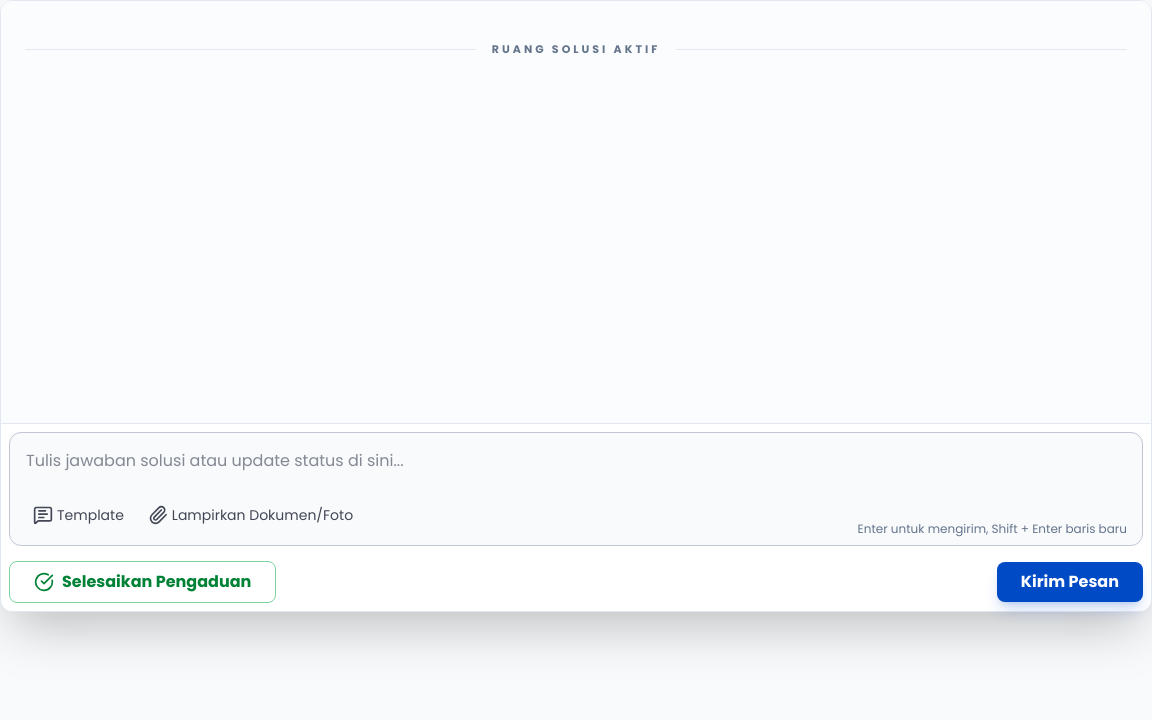
Scenario: AdminResolutionWorkspace › Enter untuk mengirim › Enter berulang selagi pengiriman berjalan tidak mengirim dua kali
Type "Sudah kami tindak lanjuti." into the text box with placeholder "Tulis jawaban solusi atau update status di sini..." at point(576, 489), box x1=9 y1=432 x2=1143 y2=546
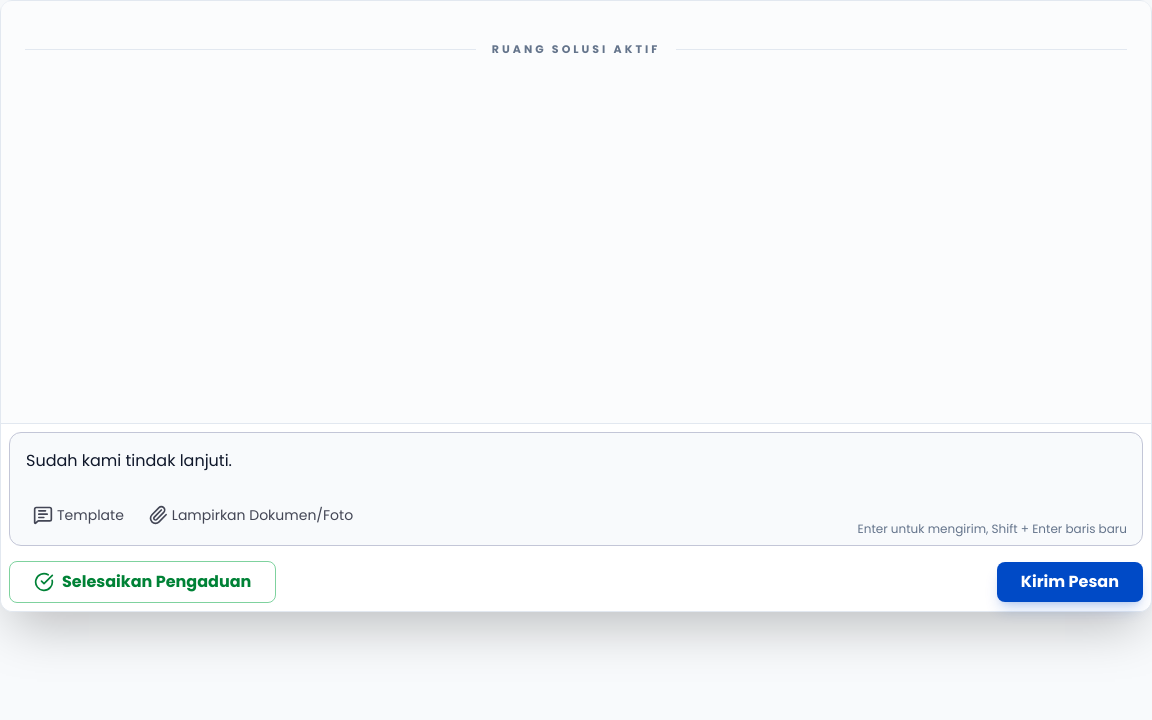
Press Enter in the text box with placeholder "Tulis jawaban solusi atau update status di sini...", box x1=9 y1=432 x2=1143 y2=546
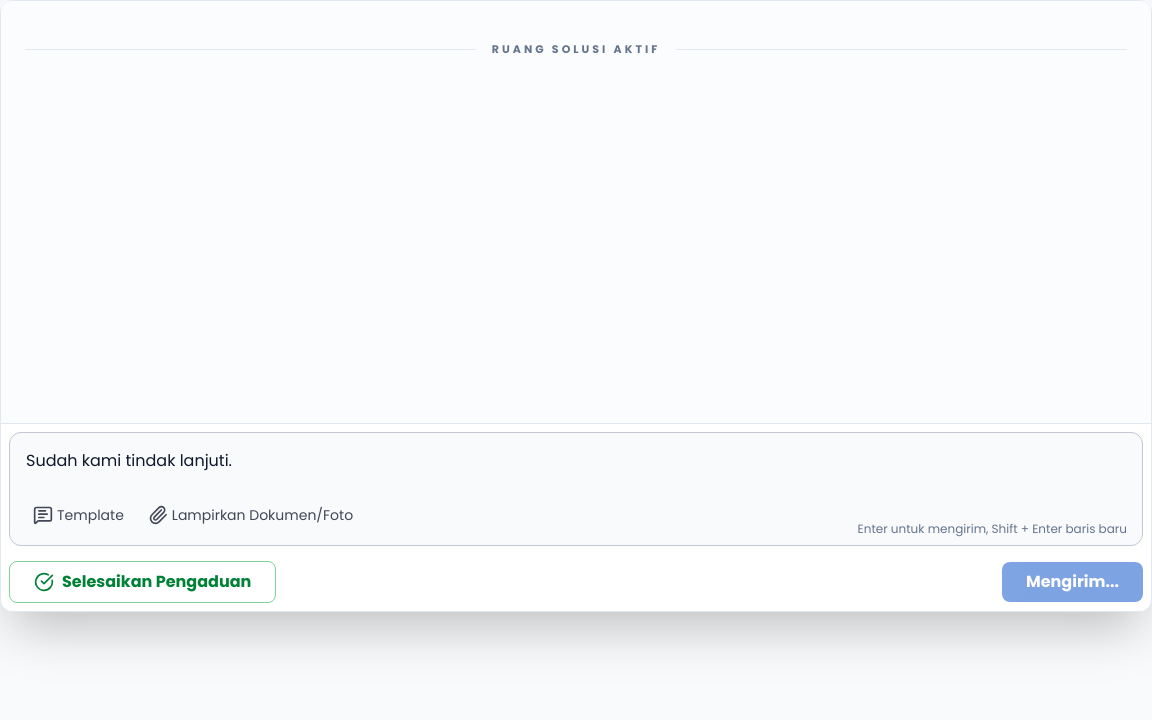
Press Enter in the text box with placeholder "Tulis jawaban solusi atau update status di sini...", box x1=9 y1=432 x2=1143 y2=546
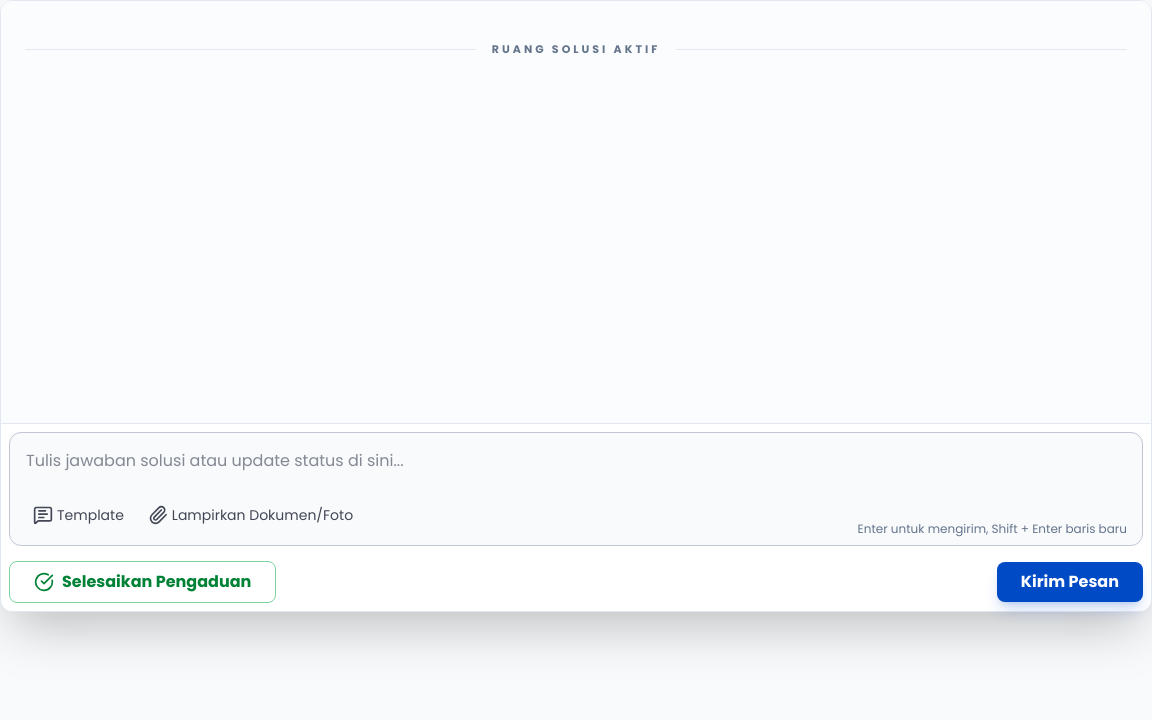
Check: the button "Kirim Pesan" is enabled, box x1=997 y1=562 x2=1143 y2=602
